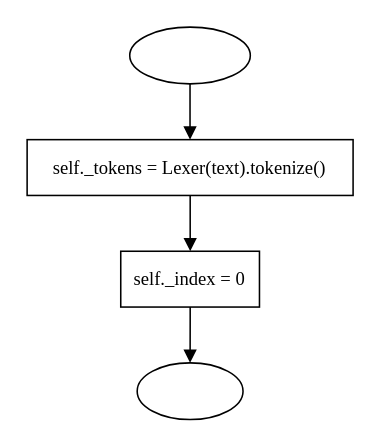
The diagram is 381 pixels wide and 448 high, and some of its shapes have lost their labels. Here are the shapes that lost their labels. From the top down, the centre of each, then its label:
At (x=189, y=55): "Начало".
At (x=189, y=390): "Конец".
